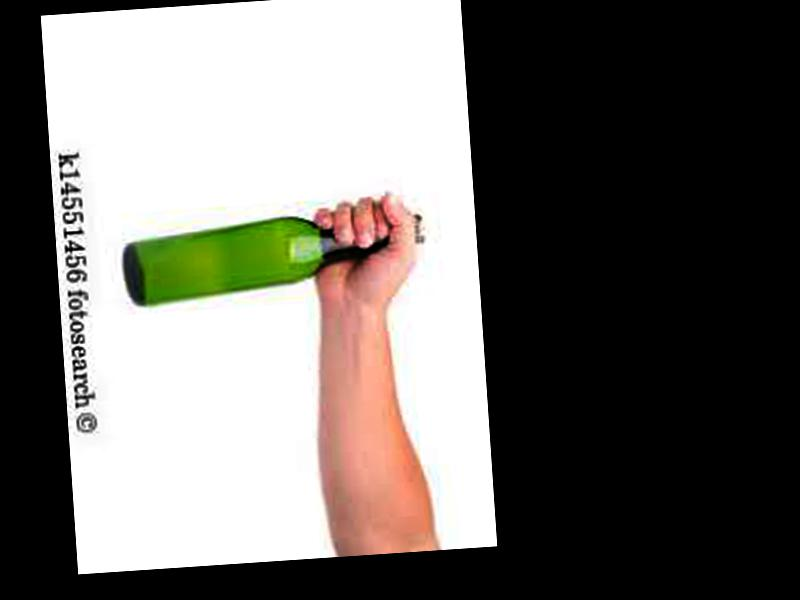Beer: (121, 208, 426, 308)
